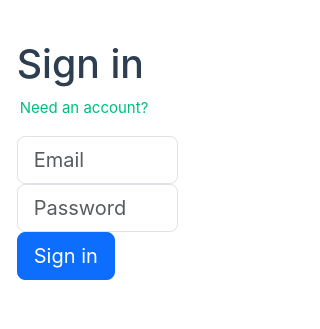
Scenario: LoginPage › error formatting › shows a generic error when the server cannot be reached
This screenshot has width=320, height=329.
Type "jane@example.com" into the field with placeholder "Email" at (98, 160), box [17,136,178,184]
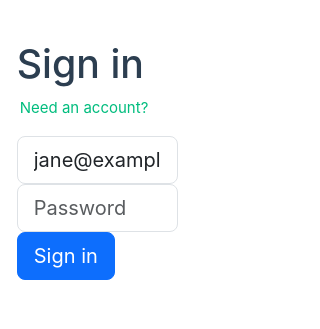
Type "secret" into the password field with placeholder "Password" at (98, 208), box [17,184,178,232]
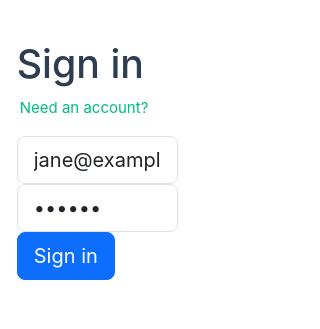
Submit the form, box [17,136,178,280]
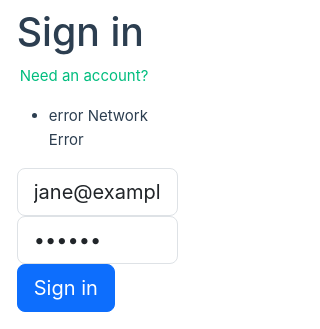
Result: the list item "error Network Error" is shown at [49,106,148,149]
